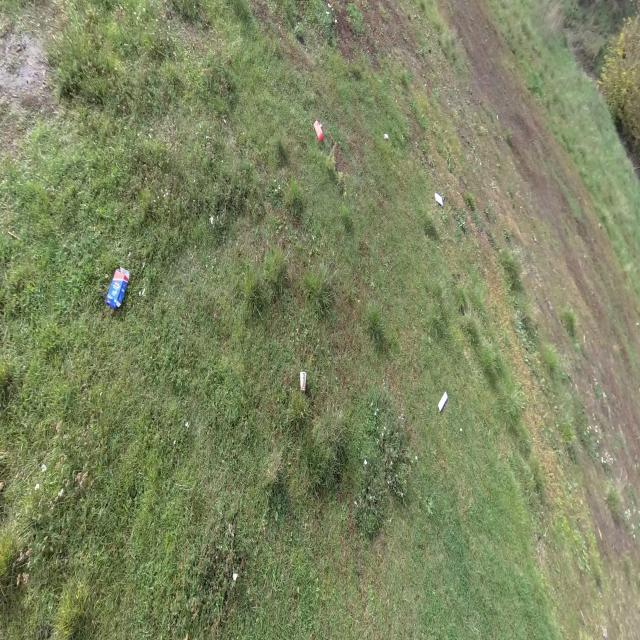rubbish: (106, 265, 130, 311), (312, 117, 324, 142), (437, 390, 449, 413), (299, 370, 306, 391), (434, 193, 443, 207), (384, 133, 389, 139)
